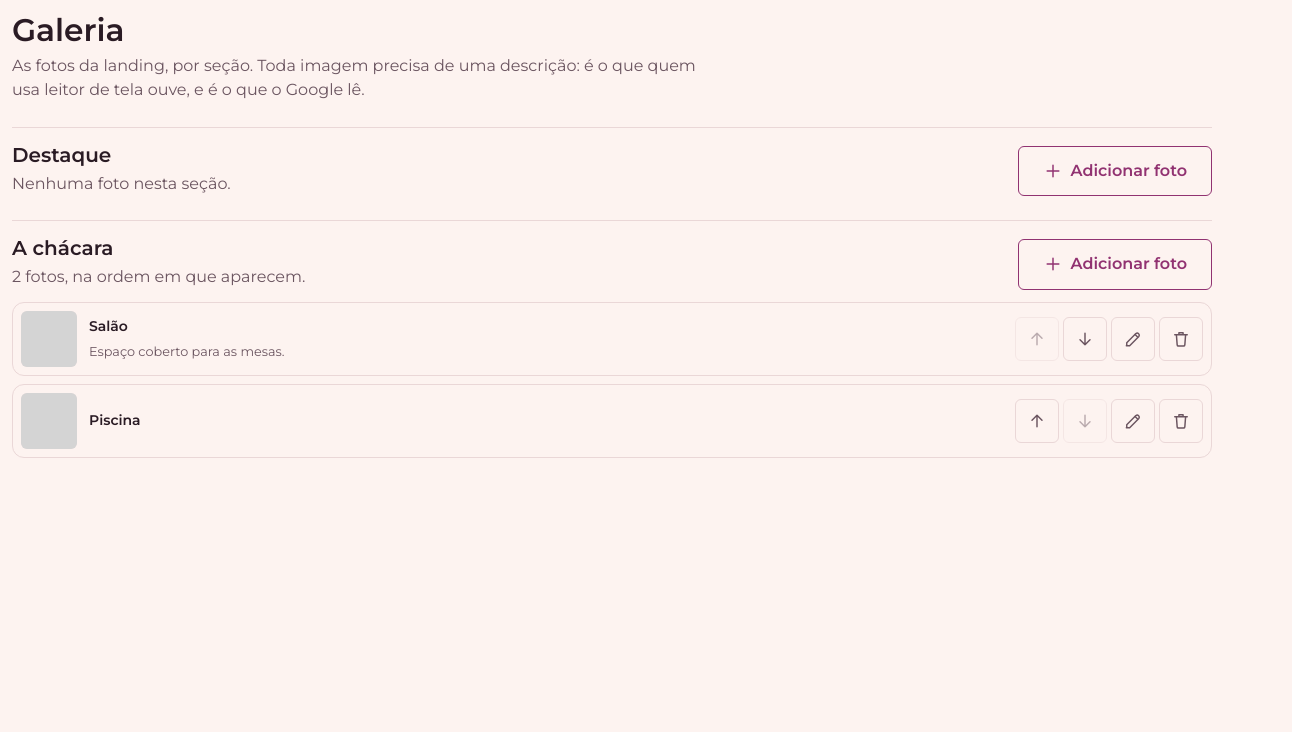
Test: GalleryPage › mostra a mensagem da API quando reordenar é recusado
Click the button named "Descer Salão". click: (1085, 339)
box: top-left (1063, 317), bottom-right (1107, 361)
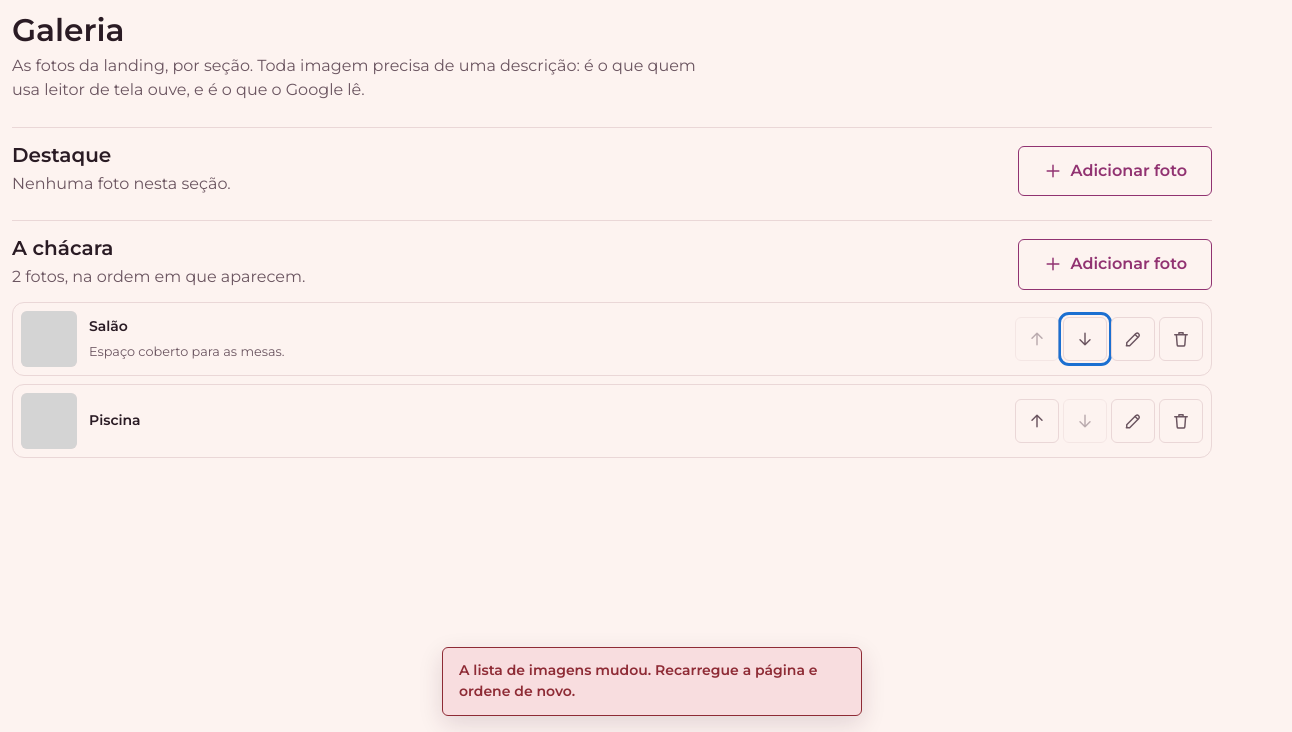
Result: the message shows "A lista de imagens mudou." at top-left (459, 661), bottom-right (818, 700)
